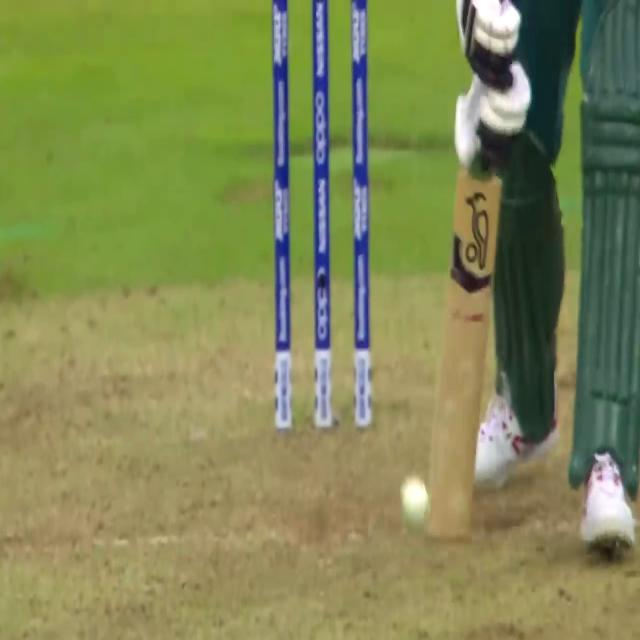ball: (392, 467, 440, 542)
